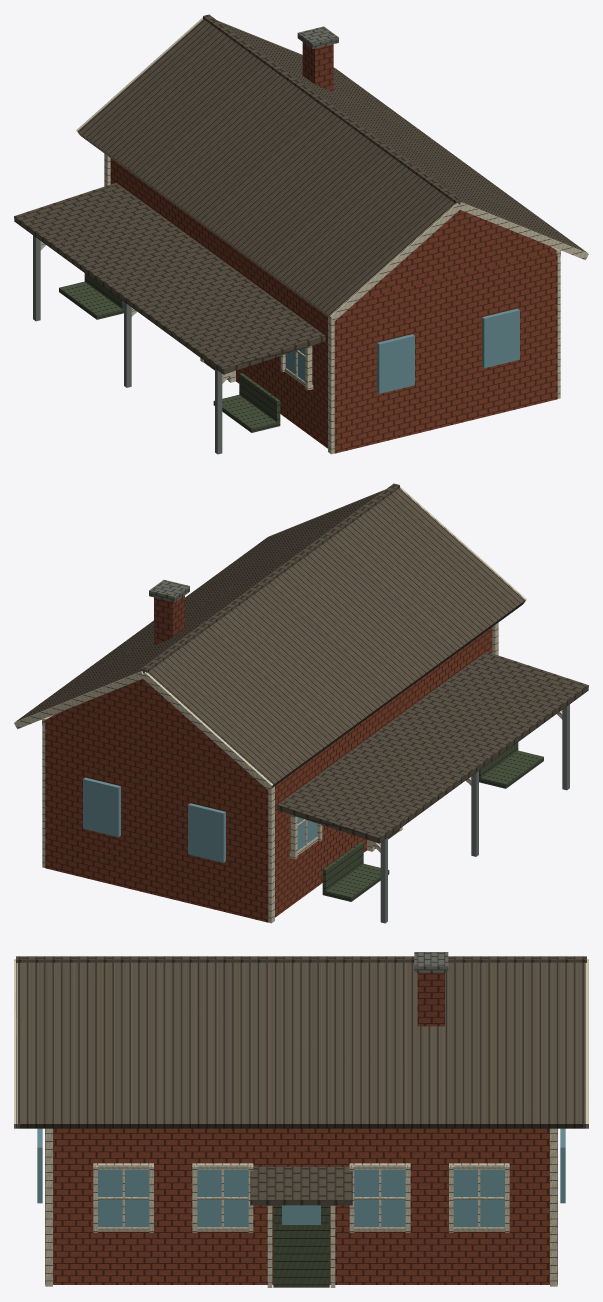
The model's file is arizona-station_lod0.glb.
The picture shows the model from 3 angles, top to bottom: view 1: azimuth 30°, elevation 25°; view 2: azimuth 150°, elevation 25°; view 3: azimuth 270°, elevation 25°; orthographic projection. The views are drawn at different scales.
Visible parts, largest first — view 1: RF_Station_Roof-1, RF_Station_Body, RF_Station_Canopy, RF_Station_Roof1, RF_Station_Gable.001, RF_Station_Ridge, RF_Station_EndWindow.001, RF_Station_EndWindow.002, RF_Station_Vergeband.001, RF_Station_Bench, RF_Station_Chimney, RF_Station_Bench.001 (+8 smaller); view 2: RF_Station_Roof-1, RF_Station_Body, RF_Station_Canopy, RF_Station_Roof1, RF_Station_Gable, RF_Station_Ridge, RF_Station_EndWindow.003, RF_Station_EndWindow, RF_Station_Vergeband.002, RF_Station_Bench.001, RF_Station_Chimney, RF_Station_Bench (+8 smaller); view 3: RF_Station_Roof1, RF_Station_Body, RF_Station_PublicAwning, RF_Station_Door, RF_Station_Ridge, RF_Station_Window.006, RF_Station_Window.007, RF_Station_Window.005, RF_Station_Window, RF_Station_Chimney, RF_Station_Corner.003, RF_Station_Corner (+8 smaller).
Boxes of the visible parts, box(x1,y1,x2,y2) form: RF_Station_Roof-1: box(78, 19, 454, 318); RF_Station_Body: box(110, 158, 557, 453); RF_Station_Canopy: box(14, 182, 325, 374); RF_Station_Roof1: box(218, 21, 586, 252); RF_Station_Gable.001: box(360, 210, 556, 298); RF_Station_Ridge: box(203, 14, 462, 204); RF_Station_EndWindow.001: box(377, 334, 414, 393); RF_Station_EndWindow.002: box(482, 308, 519, 368); RF_Station_Vergeband.001: box(329, 203, 461, 321); RF_Station_Bench: box(59, 281, 123, 319); RF_Station_Chimney: box(302, 42, 333, 91); RF_Station_Bench.001: box(213, 395, 280, 432); RF_Station_Roof-1: box(148, 488, 524, 787); RF_Station_Body: box(45, 627, 492, 922); RF_Station_Canopy: box(277, 651, 588, 843); RF_Station_Roof1: box(16, 490, 384, 721); RF_Station_Gable: box(43, 679, 246, 771); RF_Station_Ridge: box(140, 483, 399, 673); RF_Station_EndWindow.003: box(188, 803, 225, 862); RF_Station_EndWindow: box(83, 777, 120, 837); RF_Station_Vergeband.002: box(141, 672, 273, 790); RF_Station_Bench.001: box(479, 750, 543, 788); RF_Station_Chimney: box(154, 595, 184, 645); RF_Station_Bench: box(322, 864, 389, 901); RF_Station_Roof1: box(17, 962, 585, 1128); RF_Station_Body: box(45, 1128, 557, 1284); RF_Station_PublicAwning: box(250, 1166, 352, 1205); RF_Station_Door: box(273, 1205, 329, 1287); RF_Station_Ridge: box(16, 956, 586, 962); RF_Station_Window.006: box(197, 1169, 248, 1226); RF_Station_Window.007: box(354, 1169, 405, 1226); RF_Station_Window.005: box(98, 1169, 149, 1226); RF_Station_Window: box(453, 1169, 504, 1226); RF_Station_Chimney: box(417, 972, 444, 1026); RF_Station_Corner.003: box(45, 1128, 52, 1286); RF_Station_Corner: box(550, 1128, 557, 1286).
Bounding box in the file's own units: 14.23 × 9.3 × 16.82.
8 materials, 6 textured.
